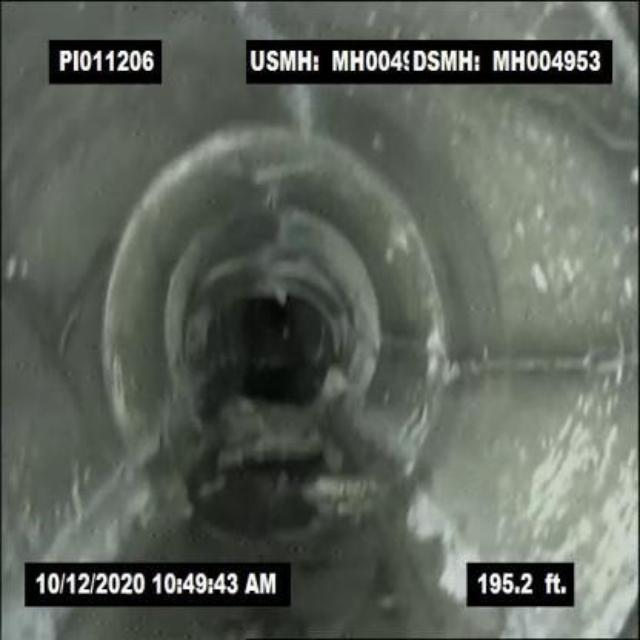Crack: (457, 338, 637, 385), (42, 463, 128, 560)
